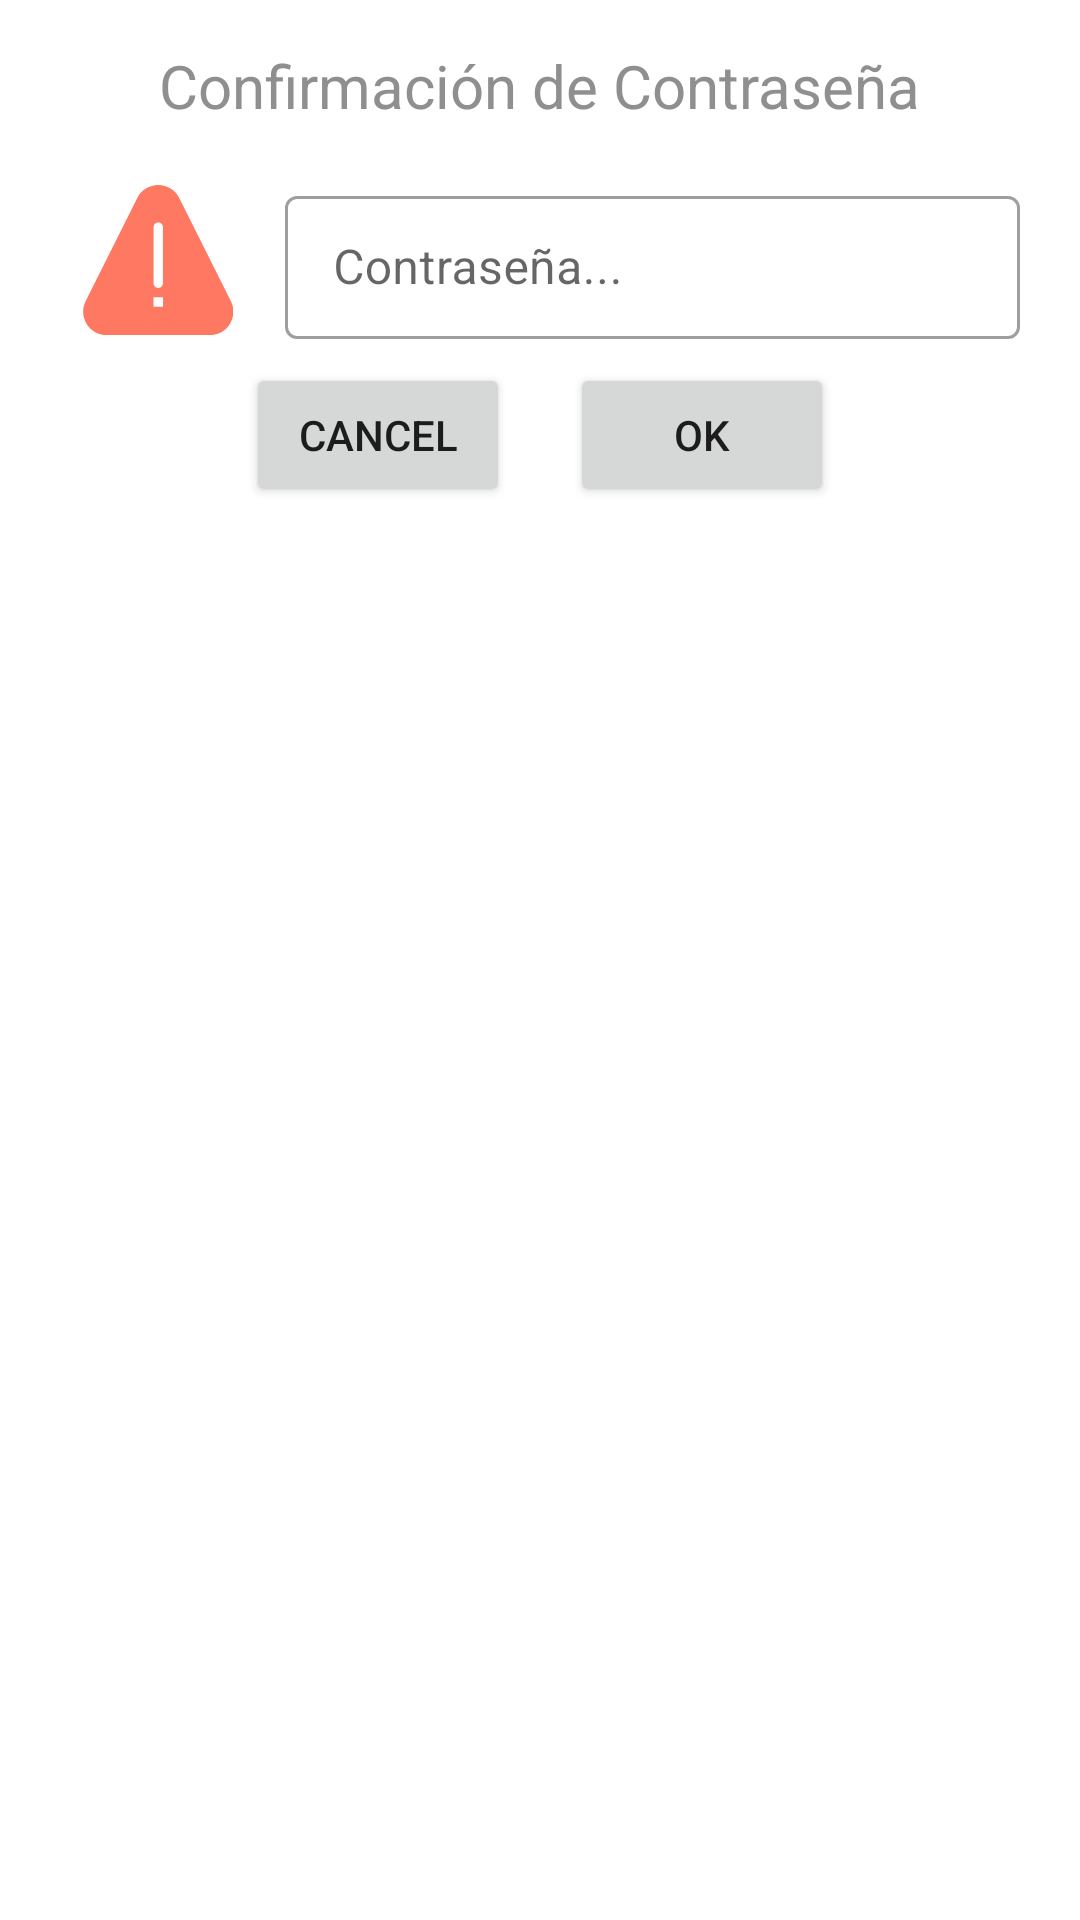

Locate icon controls on the screen. Image size 1080*1920, boxes as (x1, y1, x2, y2).
caution: (83, 185, 233, 335)
